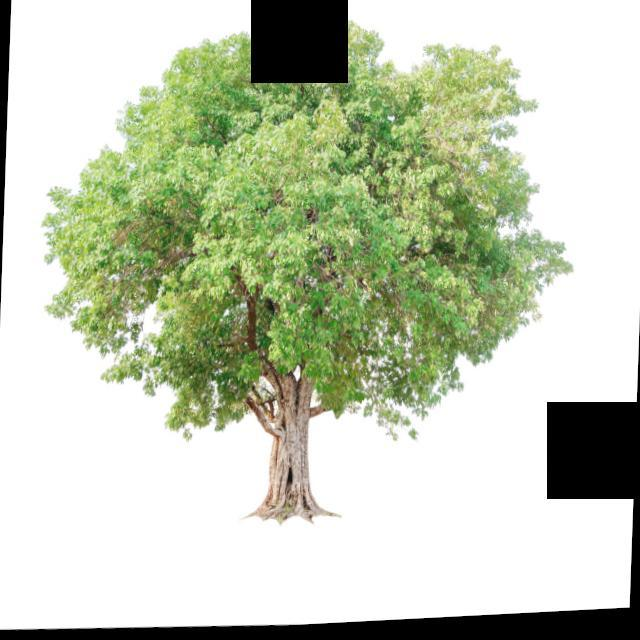Tree: (30, 1, 583, 545)
